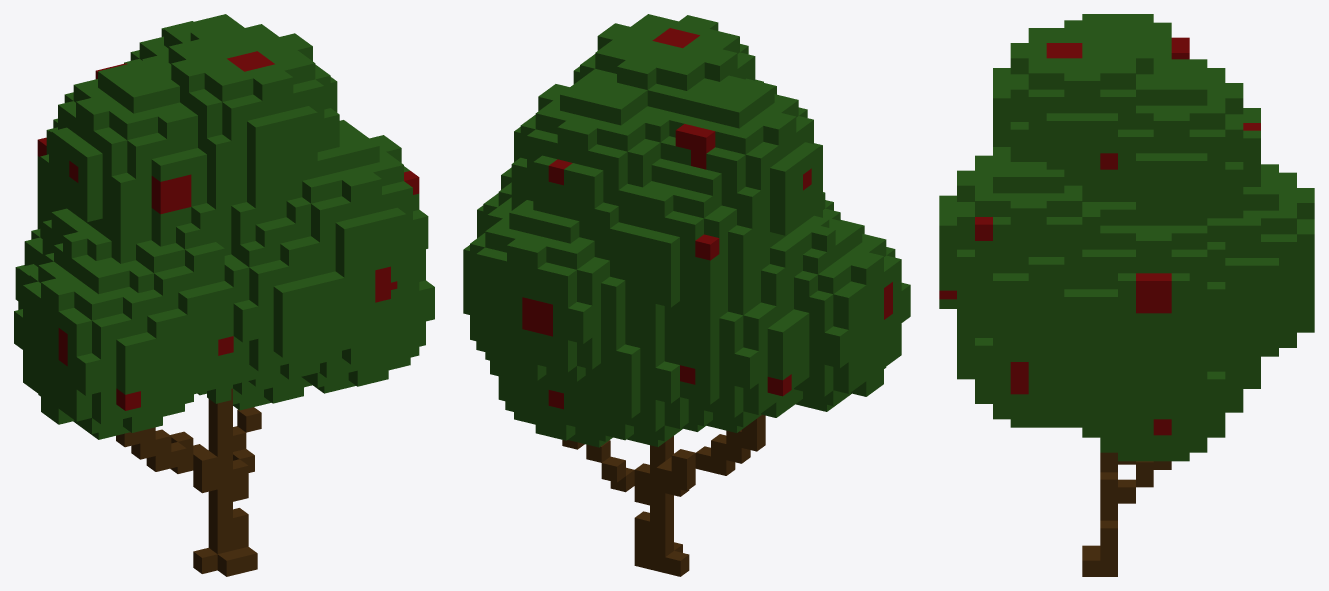
Rendered from bush4.obj.
3 renders of one model, left to right at view 1: azimuth 30°, elevation 25°; view 2: azimuth 150°, elevation 25°; view 3: azimuth 270°, elevation 25°, orthographic.
Size of the model in its own units: 2.2 by 3.2 by 2.1.
1 material, 1 textured.
